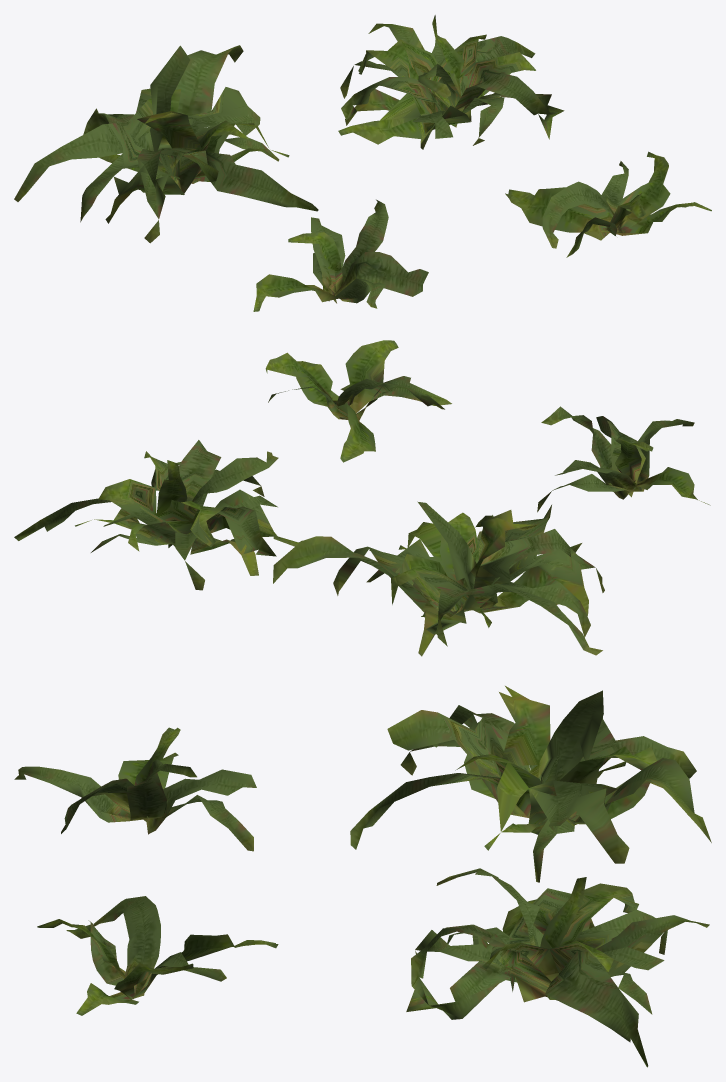
Rendered from fern_02_lod1.glb.
3 views of the same model, one above another, from view 1: azimuth 30°, elevation 25°; view 2: azimuth 150°, elevation 25°; view 3: azimuth 270°, elevation 25° (orthographic). The views are drawn at different scales.
Parts seen in each view (by area): view 1: fern_02_b, fern_02_c, fern_02_d, fern_02_a; view 2: fern_02_b, fern_02_c, fern_02_d, fern_02_a; view 3: fern_02_b, fern_02_c, fern_02_a, fern_02_d.
Part boxes in pixels (x1,y1,x2,y2): fern_02_b: [14, 45, 318, 243]; fern_02_c: [338, 15, 564, 149]; fern_02_d: [505, 151, 711, 257]; fern_02_a: [253, 199, 428, 311]; fern_02_b: [273, 501, 604, 656]; fern_02_c: [14, 440, 302, 590]; fern_02_d: [265, 340, 451, 462]; fern_02_a: [537, 406, 710, 512]; fern_02_b: [350, 686, 711, 882]; fern_02_c: [406, 868, 709, 1067]; fern_02_a: [14, 727, 256, 851]; fern_02_d: [37, 896, 278, 1015].
Size of the model in its own units: 1.97 by 0.4259 by 1.71.
1 material, 1 textured.
